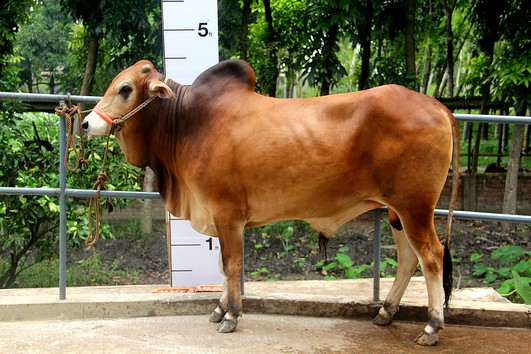cow: (77, 53, 466, 347)
